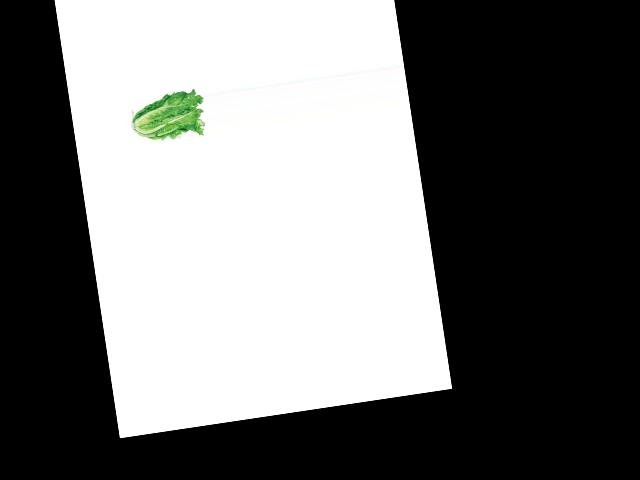lettuce: (129, 87, 208, 146)
